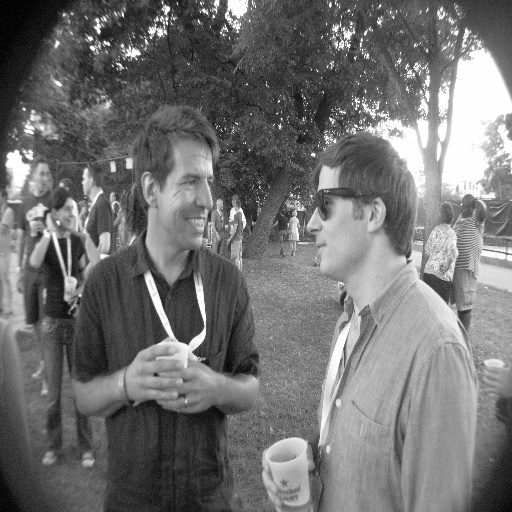hand: (124, 332, 184, 404), (260, 439, 315, 511), (169, 351, 216, 423), (68, 285, 83, 309), (43, 210, 55, 231), (14, 269, 24, 293), (30, 218, 45, 234), (215, 232, 219, 242)
